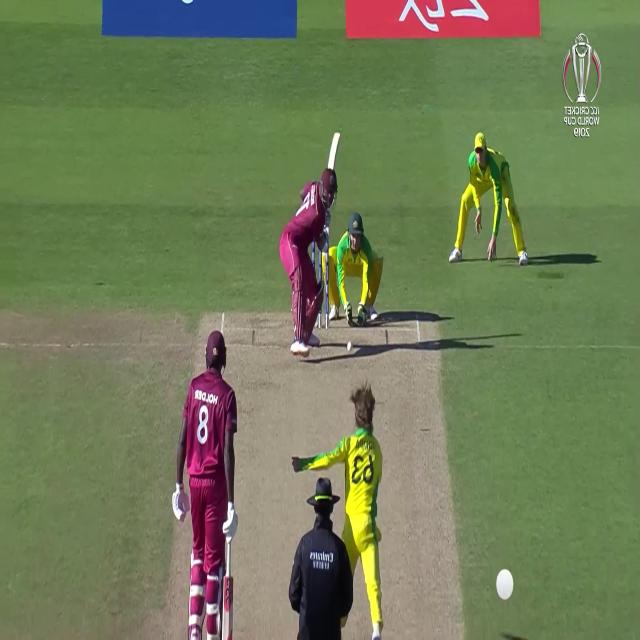ball: (345, 338, 354, 354)
